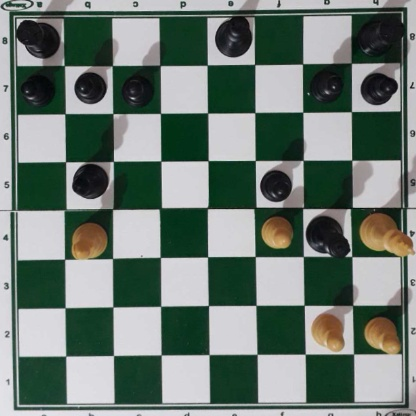black-bishop: (68, 162, 111, 198)
black-king: (212, 14, 252, 58)
black-pawn: (359, 69, 396, 105), (308, 68, 343, 102), (20, 71, 53, 104), (260, 167, 292, 201), (73, 70, 104, 104), (121, 71, 152, 105)
black-queen: (306, 211, 351, 260)
black-rook: (13, 15, 61, 58), (358, 14, 405, 55)
white-bishop: (70, 223, 107, 259)
white-king: (358, 213, 413, 256)
white-pawn: (309, 311, 346, 351), (363, 315, 400, 353), (260, 213, 294, 248)
